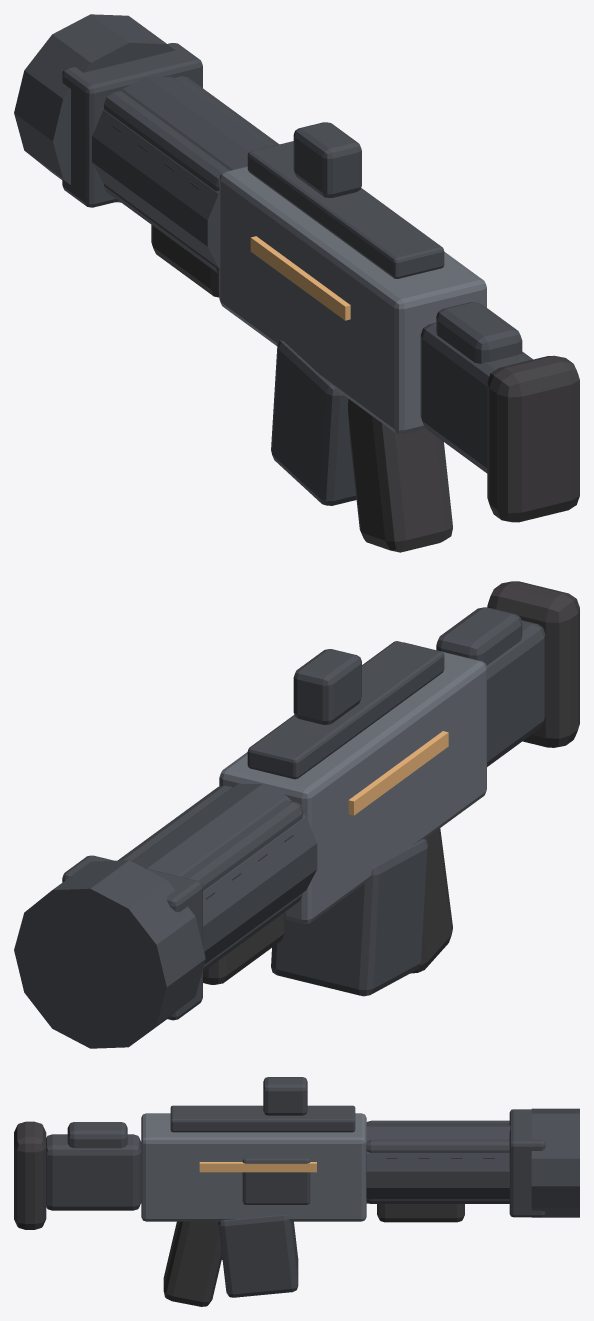
The model's file is WPN_GrenadeLauncher.fbx.
3 renders of one model, top to bottom at view 1: azimuth 30°, elevation 25°; view 2: azimuth 150°, elevation 25°; view 3: azimuth 270°, elevation 25°, orthographic. The views are drawn at different scales.
Visible parts, largest first — view 1: WPN_GrenadeLauncher; view 2: WPN_GrenadeLauncher; view 3: WPN_GrenadeLauncher.
Boxes of the visible parts, x1,y1,x2,y2 form: WPN_GrenadeLauncher: (14,14,579,552); WPN_GrenadeLauncher: (14,581,579,1048); WPN_GrenadeLauncher: (14,1077,579,1306).
Bounding box in the file's own units: 0.136 × 0.301 × 0.703.
